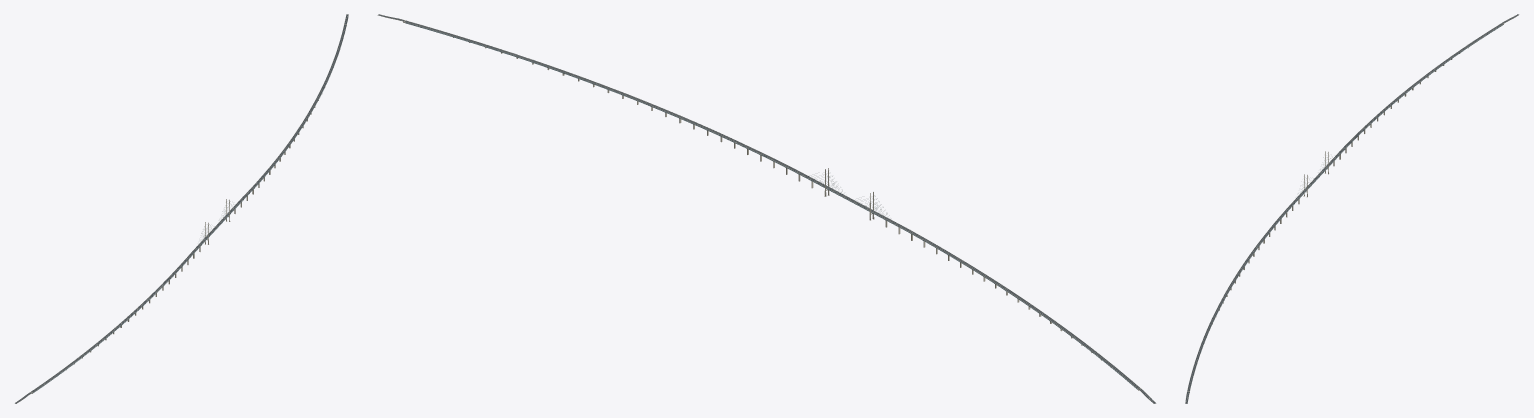
The model's file is oresund-bridge-near.glb.
3 views of the same model, side by side, from view 1: azimuth 90°, elevation 25°; view 2: azimuth 150°, elevation 25°; view 3: azimuth 270°, elevation 25° (orthographic). The views are drawn at different scales.
Parts seen in each view (by area): view 1: oresund-bridge-1-concrete, oresund-bridge-0-asphalt, oresund-bridge-0-concrete, oresund-bridge-1-asphalt, oresund-bridge-2-asphalt; view 2: oresund-bridge-1-concrete, oresund-bridge-2-concrete, oresund-bridge-2-asphalt; view 3: oresund-bridge-1-concrete, oresund-bridge-2-asphalt, oresund-bridge-0-asphalt, oresund-bridge-1-asphalt, oresund-bridge-0-concrete.
Boxes of the visible parts, x1=… form: oresund-bridge-1-concrete: x1=172, y1=146, x2=288, y2=277; oresund-bridge-0-asphalt: x1=15, y1=275, x2=172, y2=403; oresund-bridge-0-concrete: x1=15, y1=275, x2=171, y2=403; oresund-bridge-1-asphalt: x1=171, y1=145, x2=288, y2=275; oresund-bridge-2-asphalt: x1=287, y1=14, x2=348, y2=145; oresund-bridge-1-concrete: x1=685, y1=118, x2=943, y2=254; oresund-bridge-2-concrete: x1=378, y1=14, x2=686, y2=123; oresund-bridge-2-asphalt: x1=378, y1=14, x2=686, y2=119; oresund-bridge-1-concrete: x1=1246, y1=130, x2=1362, y2=263; oresund-bridge-2-asphalt: x1=1185, y1=262, x2=1246, y2=403; oresund-bridge-0-asphalt: x1=1361, y1=14, x2=1518, y2=130; oresund-bridge-1-asphalt: x1=1245, y1=130, x2=1362, y2=261; oresund-bridge-0-concrete: x1=1361, y1=14, x2=1518, y2=133.
Bounding box in the file's own units: 7737 × 204 × 2806.
